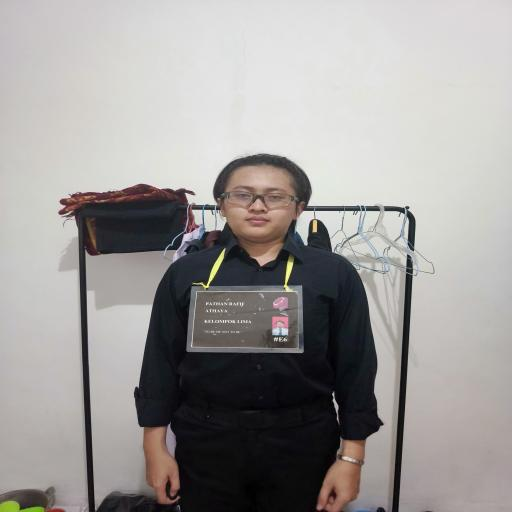celana_benar: (168, 408, 352, 512)
kemeja_salah: (138, 248, 385, 412)
nametag_ada: (177, 266, 318, 363)
